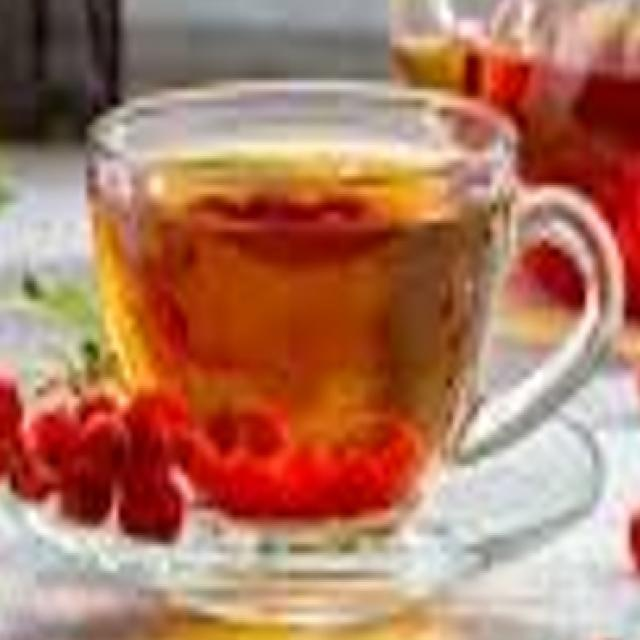taza: (85, 54, 630, 546)
